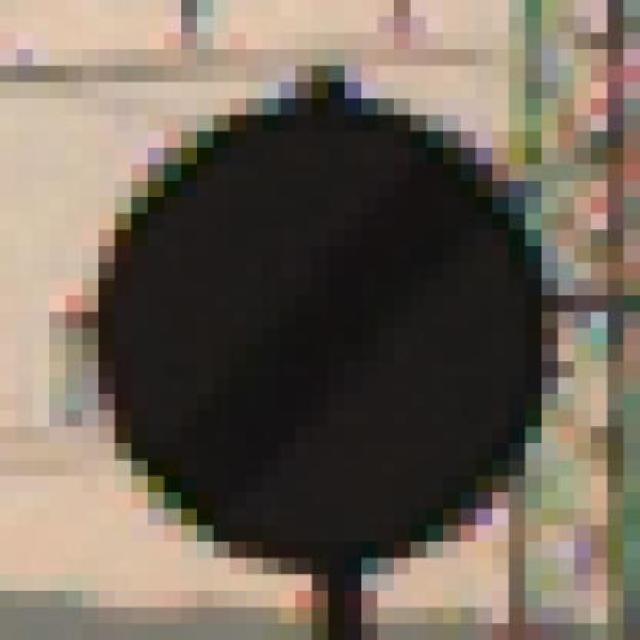End of all speed and passing limits: (81, 49, 558, 558)
